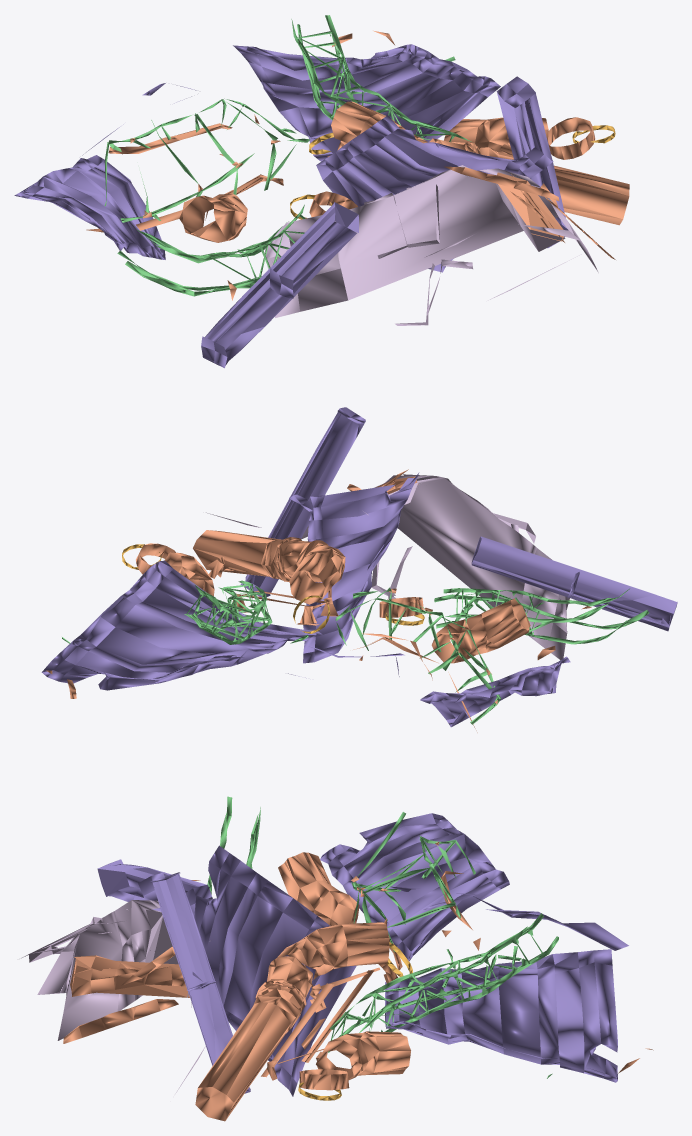
The model's file is debris_a_lod3.glb.
The picture shows the model from 3 angles, top to bottom: view 1: azimuth 30°, elevation 25°; view 2: azimuth 150°, elevation 25°; view 3: azimuth 270°, elevation 25°; orthographic projection. The views are drawn at different scales.
Bounding box in the file's own units: 21.6 × 8.95 × 23.08.
